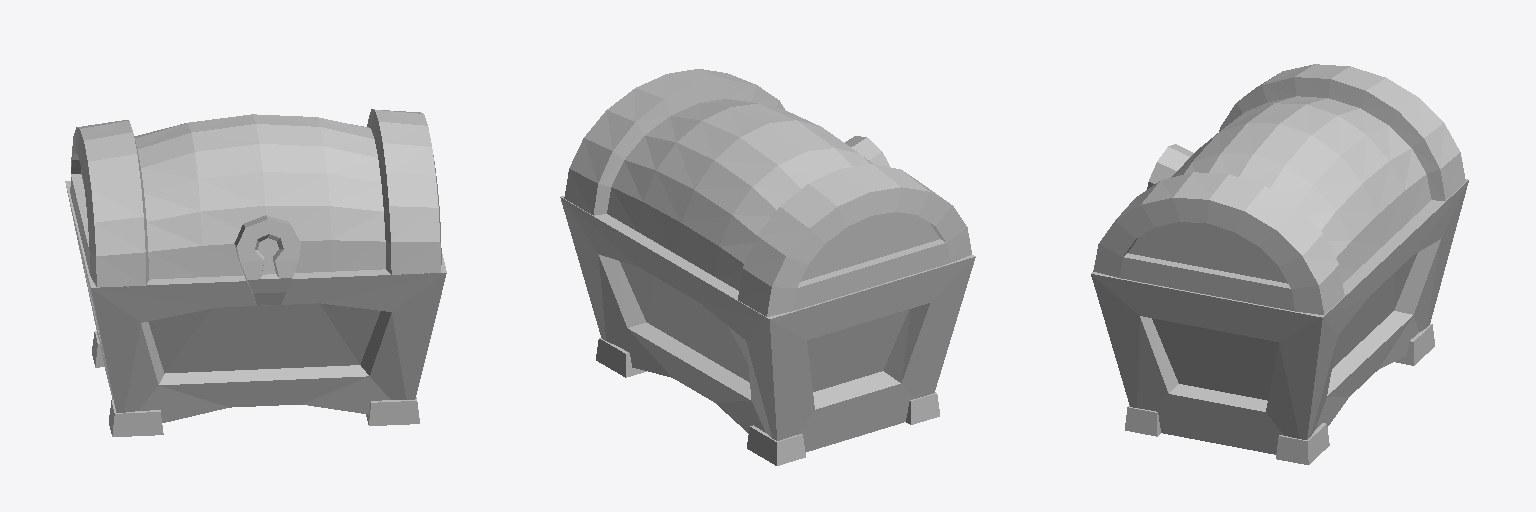
The model's file is chest.obj.
3 renders of one model, left to right at view 1: azimuth 30°, elevation 25°; view 2: azimuth 150°, elevation 25°; view 3: azimuth 270°, elevation 25°, orthographic.
Visible parts, largest first — view 1: Chest_cover, Chest; view 2: Chest_cover, Chest; view 3: Chest_cover, Chest.
Part boxes in pixels (x1,y1,x2,y2): Chest_cover: (70,109,441,305); Chest: (65,181,446,436); Chest_cover: (564,69,971,316); Chest: (560,196,975,465); Chest_cover: (1093,64,1465,314); Chest: (1091,179,1468,464).
Size of the model in its own units: 1.26 by 0.8564 by 1.11.